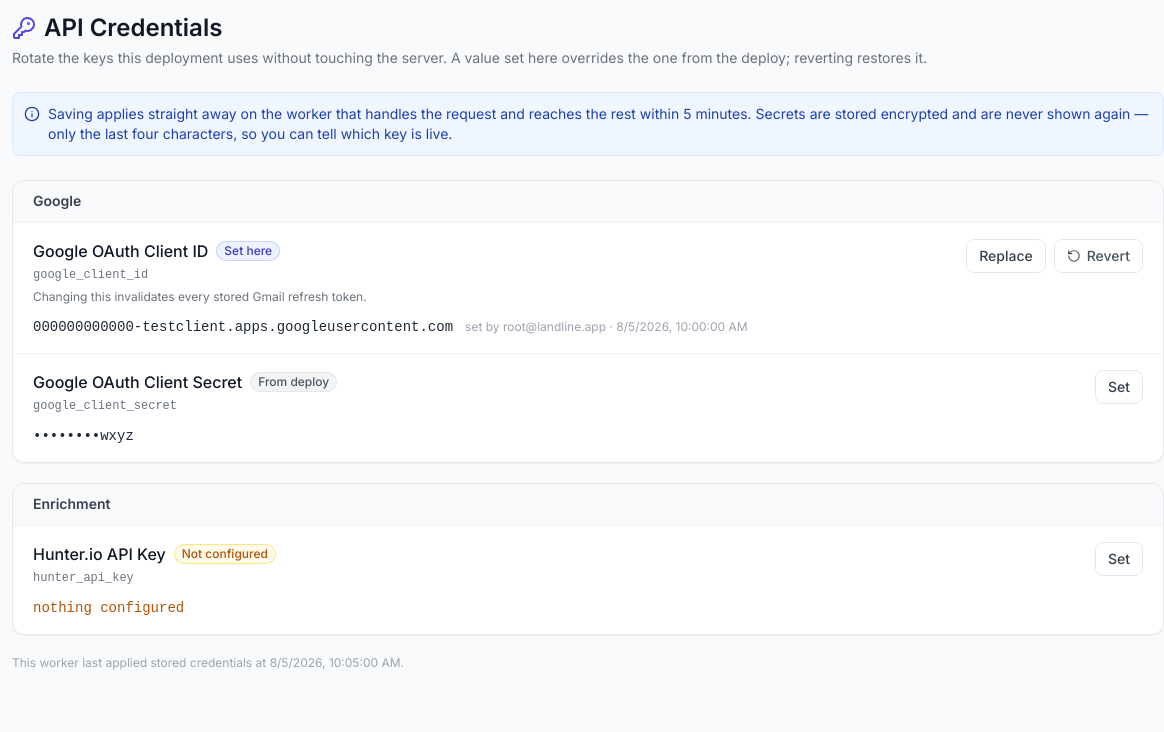
Test: PlatformCredentials › will not submit an empty value
Click the button with aria-label "Set Hunter.io API Key".
click(1119, 559)  # box [1095,542,1143,576]
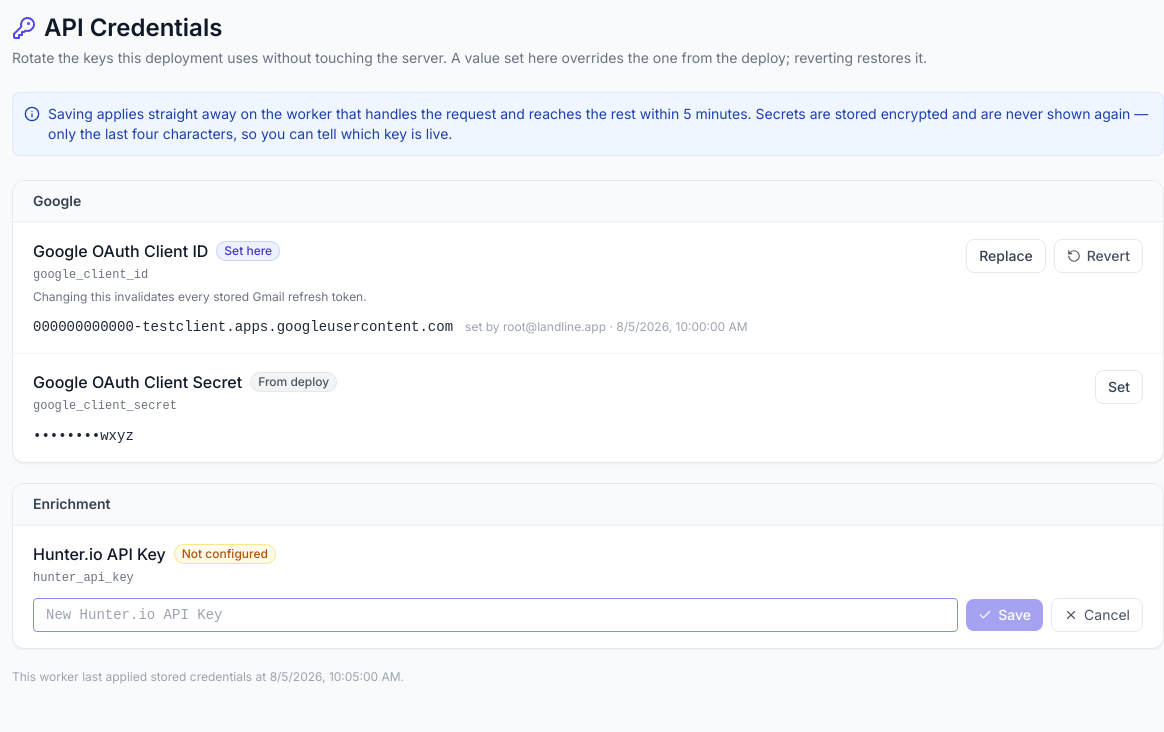
Expected: the button "Save" is disabled, [966,599,1043,631]
